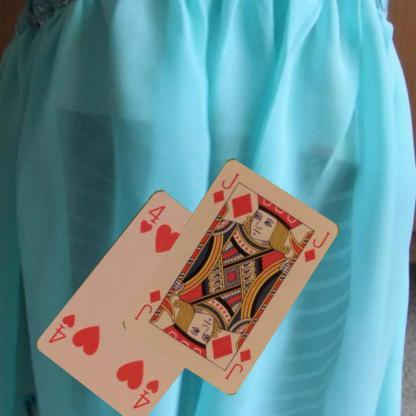4h: (130, 376, 161, 410), (136, 202, 167, 235)
Jd: (210, 170, 241, 204), (221, 346, 252, 380)
